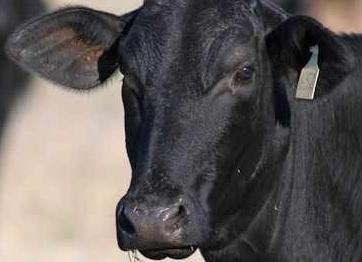muzzles: (111, 193, 208, 262)
